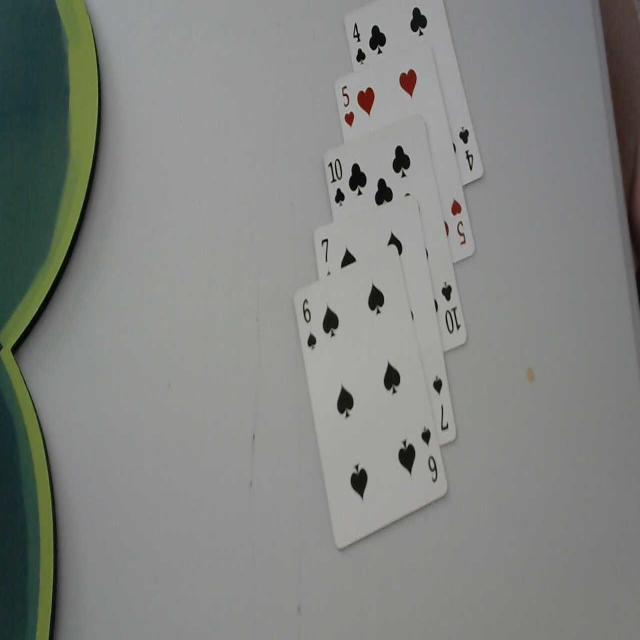10C: (438, 276, 462, 338), (327, 157, 349, 210)
4C: (456, 122, 480, 176), (350, 18, 370, 68)
5H: (450, 195, 470, 249), (339, 82, 356, 132)
6S: (300, 291, 320, 353), (420, 422, 439, 484)
7S: (430, 372, 450, 434)
